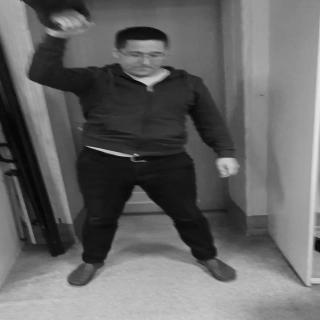kettlebell: (20, 1, 94, 33)
